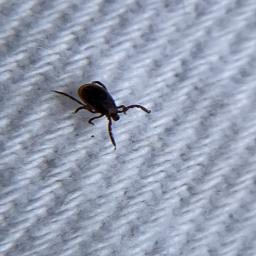Ixodes scapularis: (49, 89, 146, 162)
